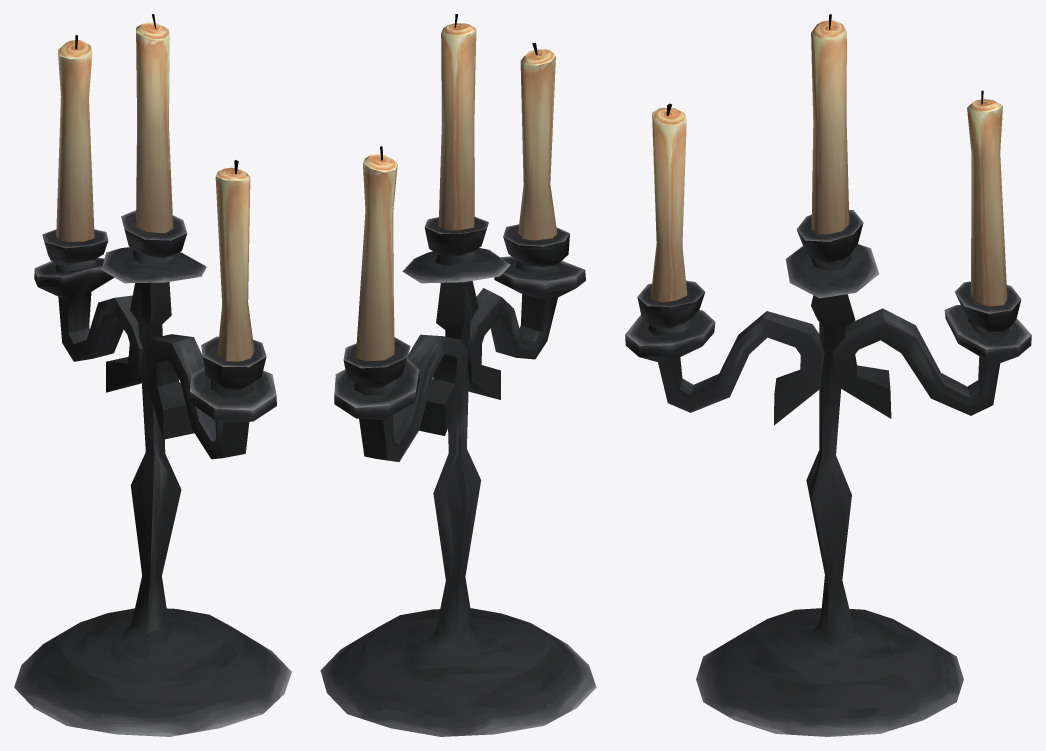
The model's file is SM_PROP_candle_dungeon_01.fbx.
3 renders of one model, left to right at view 1: azimuth 30°, elevation 25°; view 2: azimuth 150°, elevation 25°; view 3: azimuth 270°, elevation 25°, orthographic.
Visible parts, largest first — view 1: SM_PROP_candle_dungeon_01; view 2: SM_PROP_candle_dungeon_01; view 3: SM_PROP_candle_dungeon_01.
Part boxes in pixels (x1,y1,x2,y2): SM_PROP_candle_dungeon_01: [14, 14, 291, 736]; SM_PROP_candle_dungeon_01: [320, 14, 596, 736]; SM_PROP_candle_dungeon_01: [625, 14, 1031, 736].
Bounding box in the file's own units: 32.41 × 86.84 × 48.13.
